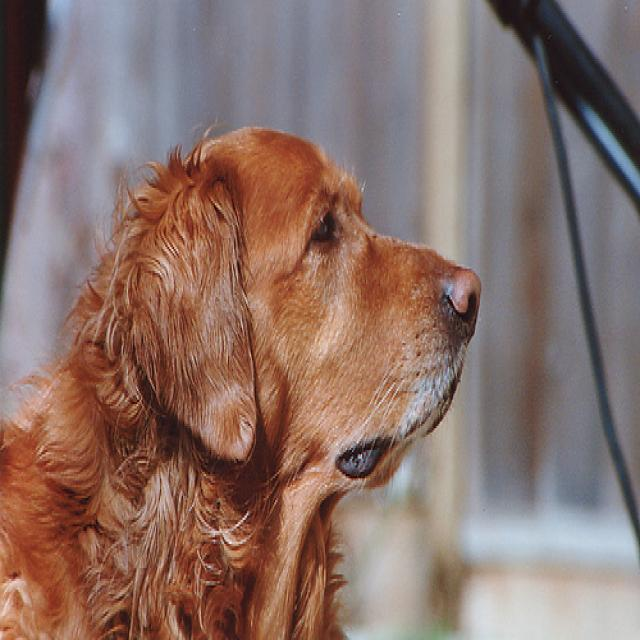dog: (1, 121, 484, 639)
